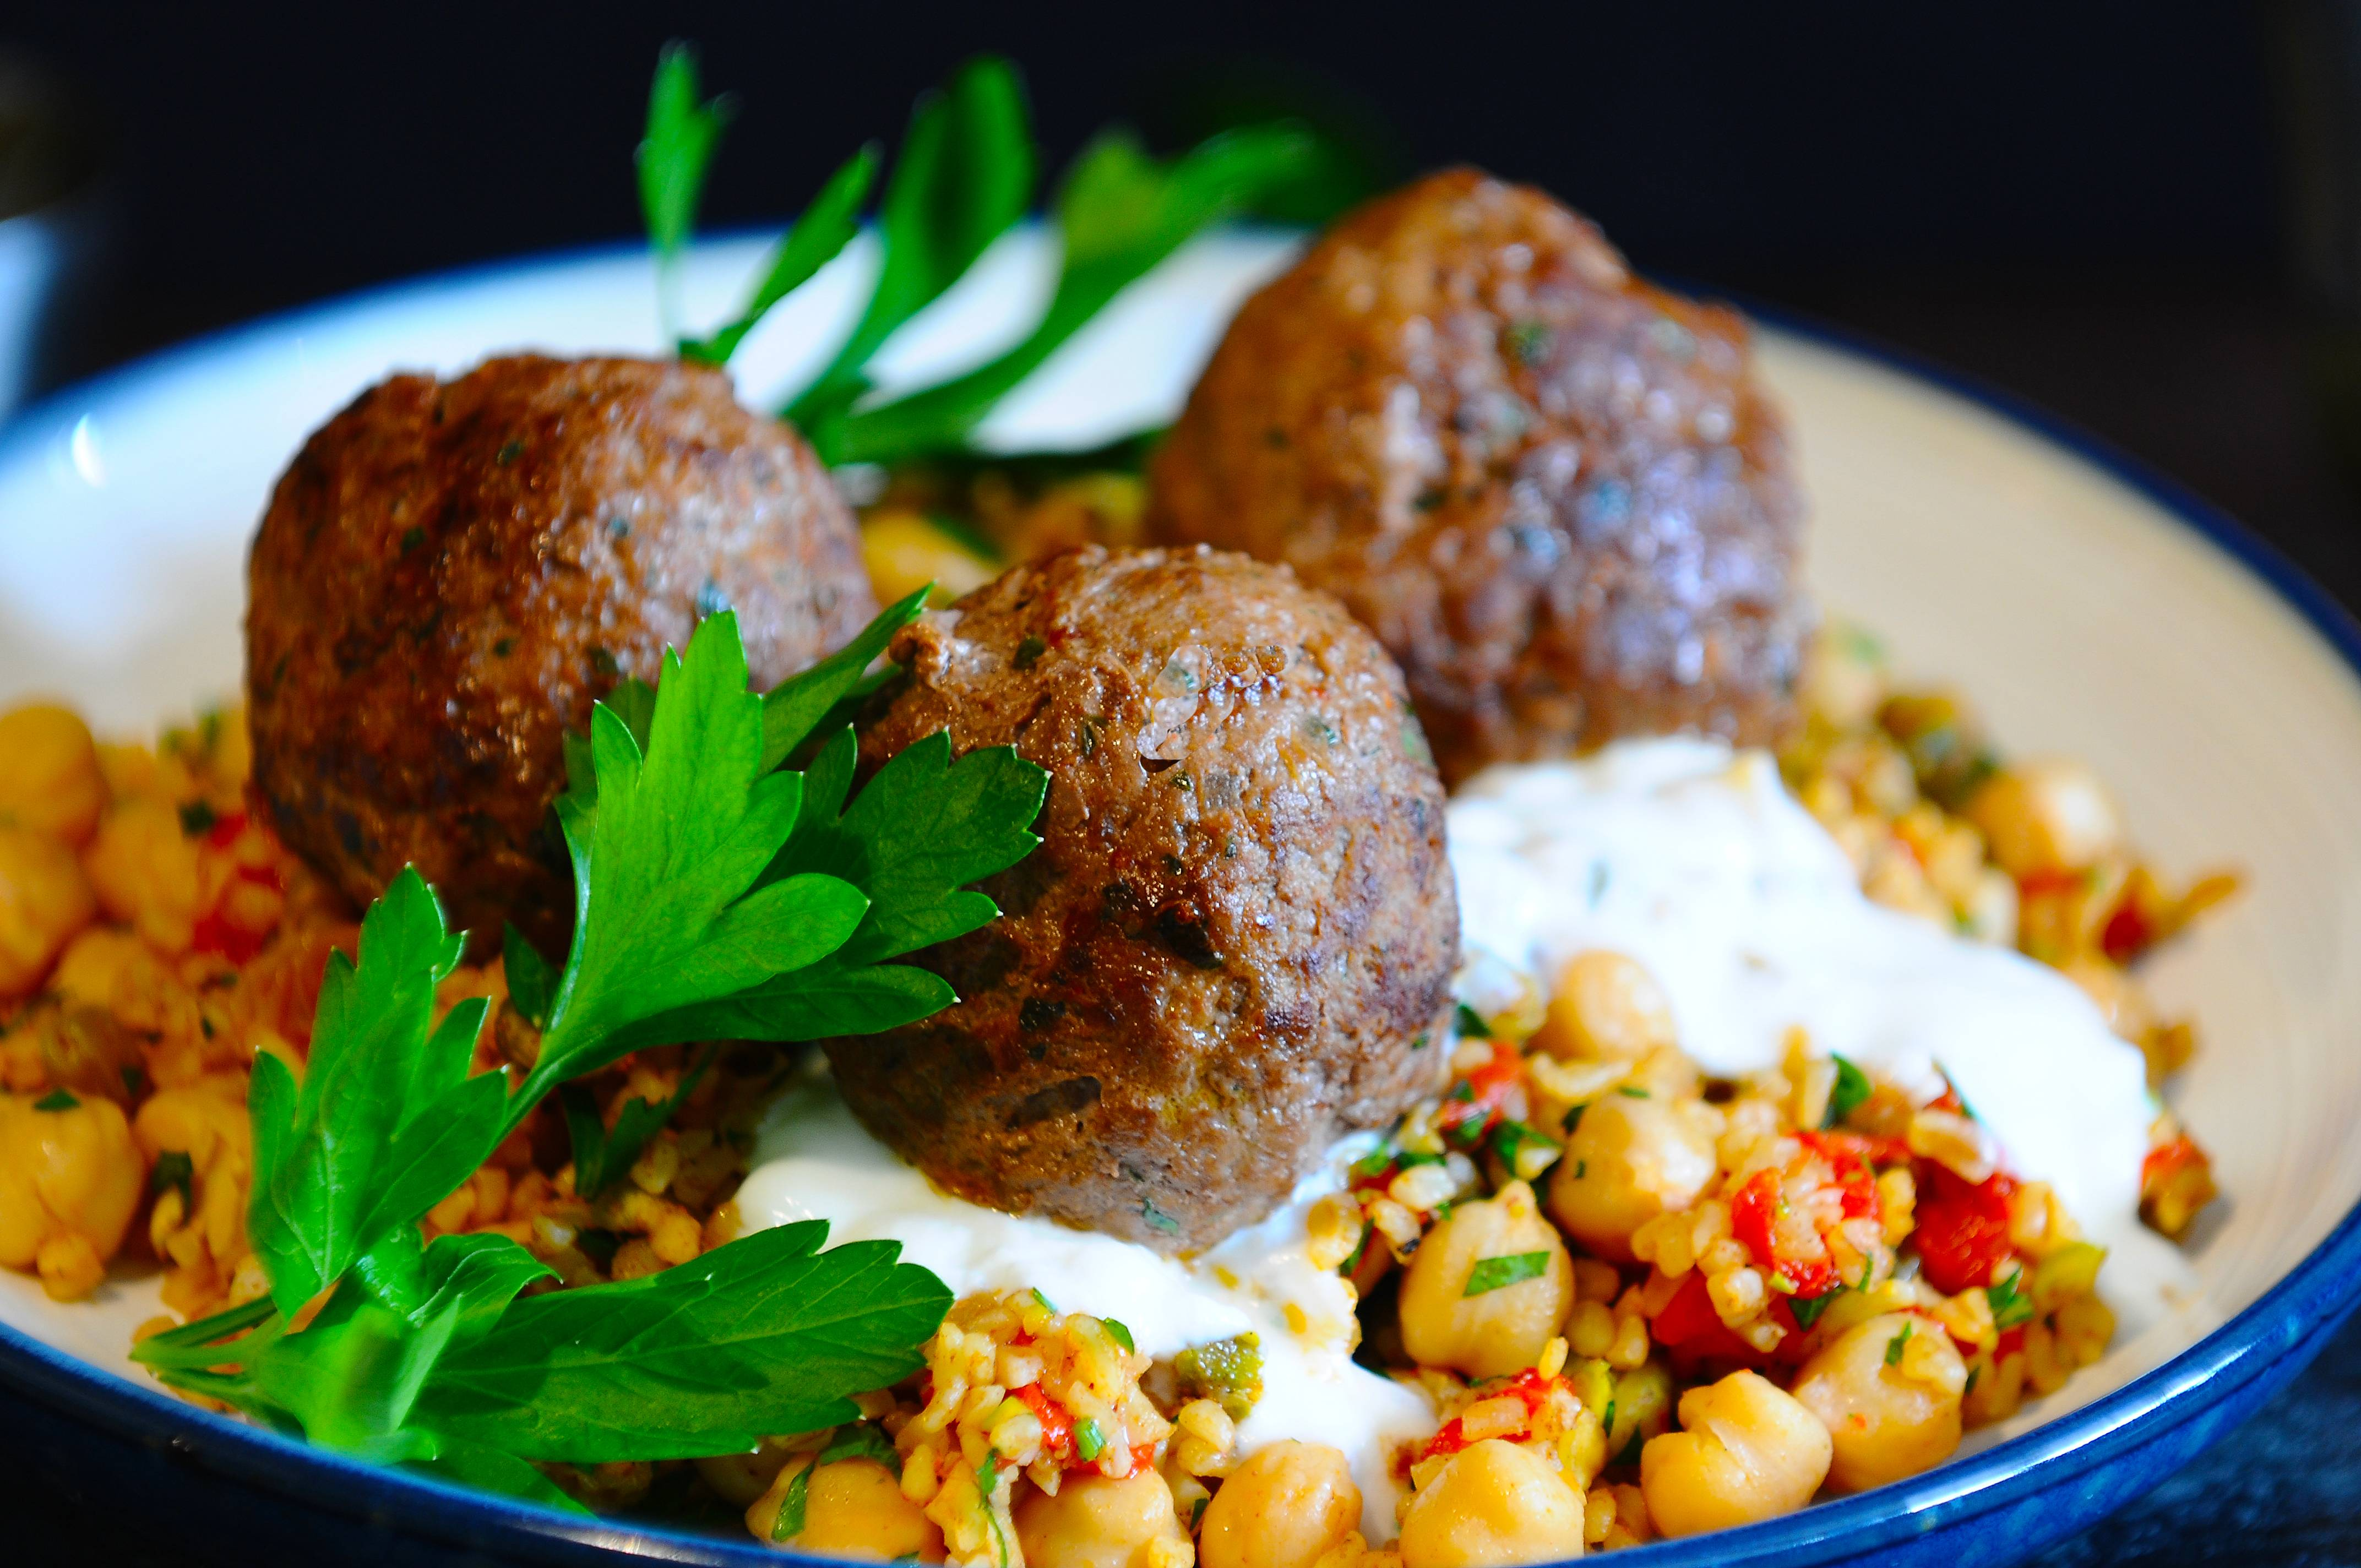meatballs: (830, 544, 1460, 1204), (1146, 166, 1801, 758), (233, 360, 851, 926)
